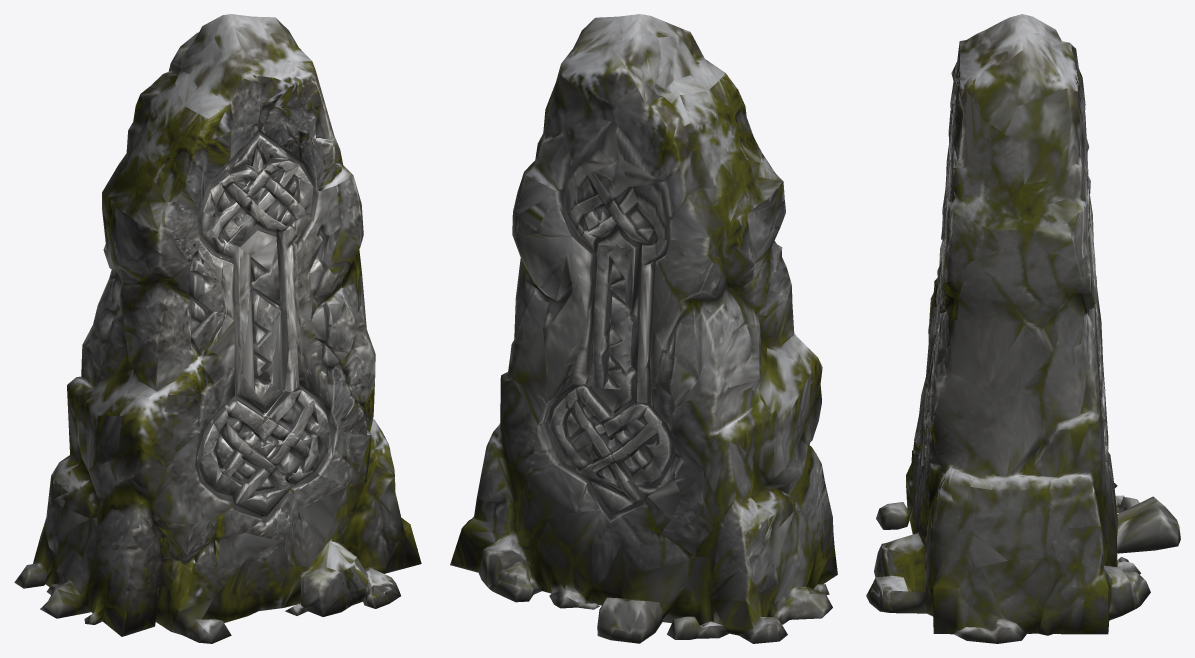
File: runestone.glb
The picture shows the model from 3 angles, left to right: view 1: azimuth 30°, elevation 25°; view 2: azimuth 150°, elevation 25°; view 3: azimuth 270°, elevation 25°; orthographic projection.
Visible parts, largest first — view 1: Mesh_0; view 2: Mesh_0; view 3: Mesh_0.
Part boxes in pixels (left/top/right/bottom): Mesh_0: left=14, top=14, right=421, bottom=643; Mesh_0: left=450, top=14, right=837, bottom=643; Mesh_0: left=866, top=14, right=1180, bottom=643.
Size of the model in its own units: 1.27 by 1.9 by 0.988.
Materials: 1 (1 with a texture image).
